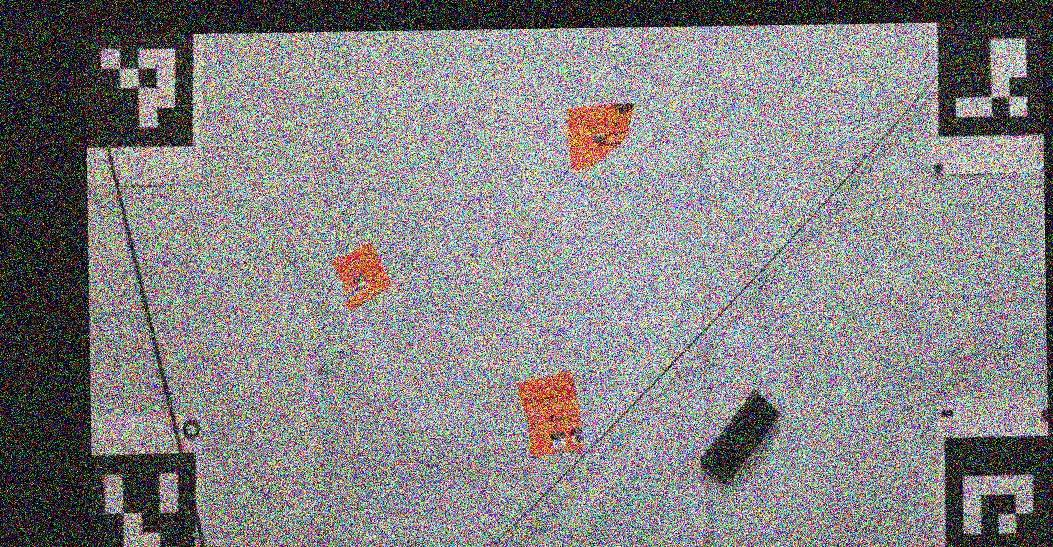obstacle: (702, 391, 781, 484), (517, 372, 587, 455), (565, 101, 637, 172), (331, 241, 392, 309)
